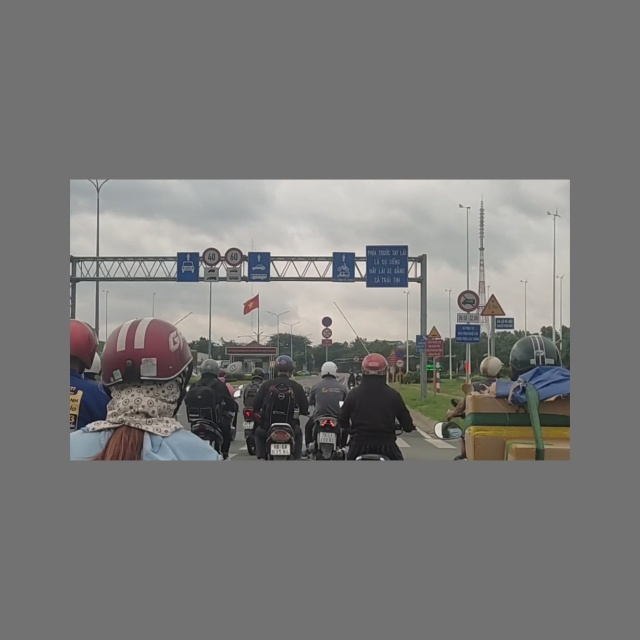Camera: (412, 332, 432, 355)
P.106a*Xe tai: (452, 285, 485, 317)
P.107: (350, 354, 362, 365)
P.111: (319, 326, 335, 342)
P.127*40: (197, 244, 225, 271)
P.127*60: (220, 243, 248, 270)
P.129: (393, 357, 407, 371)
P.130: (319, 314, 335, 330)
P.131a: (393, 345, 408, 361)
W.221b: (425, 322, 446, 343)
W.239b*: (475, 287, 513, 323)
